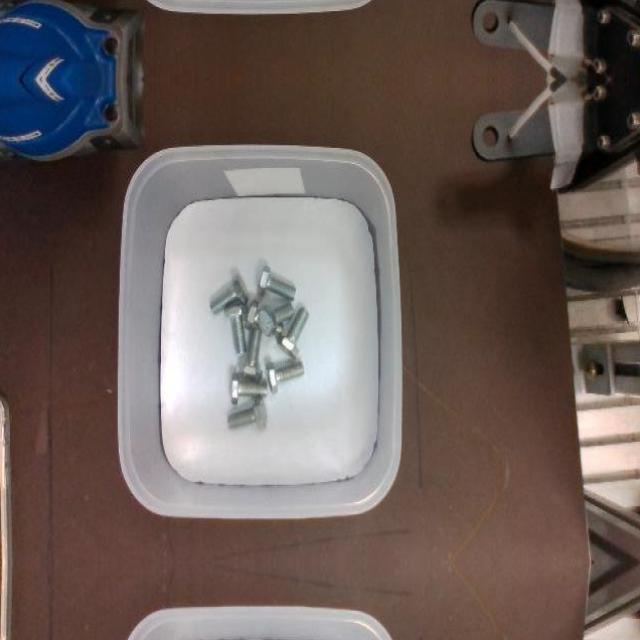screw: (277, 306, 310, 357), (210, 275, 250, 315), (258, 265, 296, 301), (228, 395, 268, 429), (240, 326, 264, 380), (267, 360, 305, 394), (260, 302, 296, 336), (224, 304, 248, 355), (230, 372, 268, 404)
